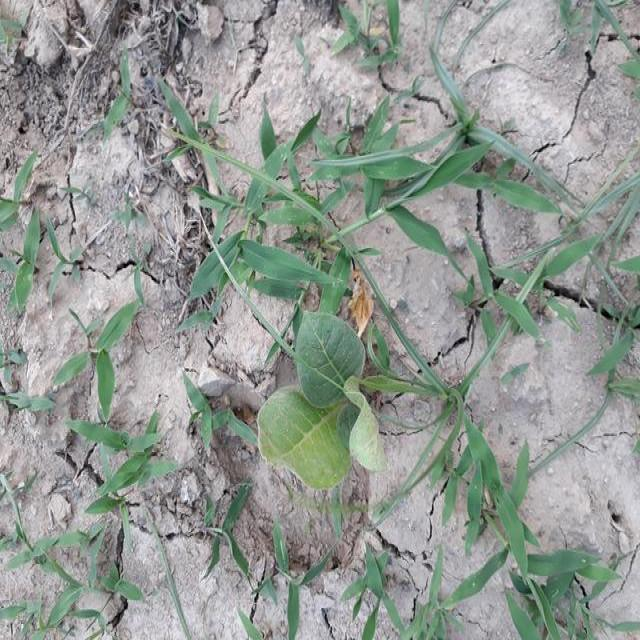crop: (246, 308, 375, 492)
